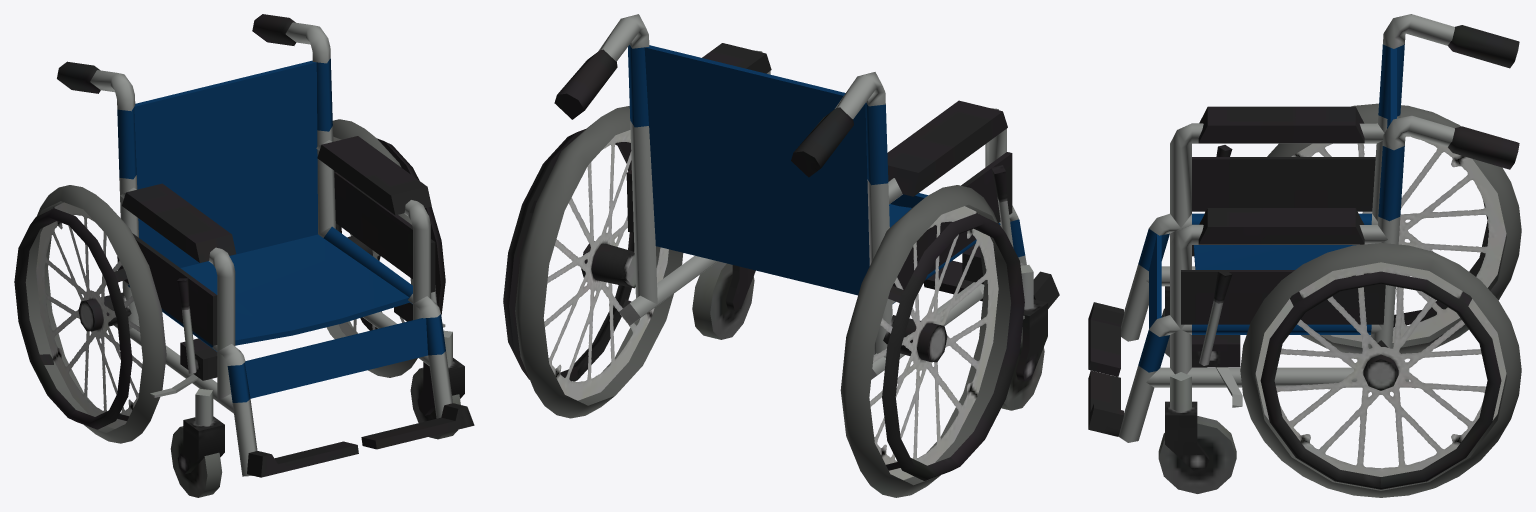
3 renders of one model, left to right at view 1: azimuth 30°, elevation 25°; view 2: azimuth 150°, elevation 25°; view 3: azimuth 270°, elevation 25°, orthographic. The views are drawn at different scales.
Size of the model in its own units: 9.03 by 9.08 by 9.83.
Materials: 3 (3 with a texture image).
